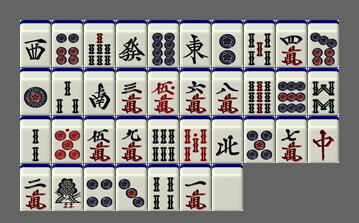0m: (148, 68, 179, 115)
0p: (52, 116, 83, 163)
0s: (180, 116, 211, 163)
1m: (180, 164, 211, 211)
1p: (20, 68, 51, 115)
1s: (52, 164, 83, 211)
1z: (180, 20, 211, 67)
2m: (20, 164, 51, 211)
2p: (212, 20, 243, 67)
2s: (20, 116, 51, 163)
2z: (84, 68, 115, 115)
3m: (116, 68, 147, 115)
3p: (116, 164, 147, 211)
3s: (52, 68, 83, 115)
3z: (20, 20, 51, 67)
4m: (276, 20, 307, 67)
4p: (84, 164, 115, 211)
4s: (148, 164, 179, 211)
4z: (212, 116, 243, 163)
5m: (84, 116, 115, 163)
5p: (244, 116, 275, 163)
5s: (244, 20, 275, 67)
5z: (212, 164, 243, 211)
6m: (180, 68, 211, 115)
6p: (52, 20, 83, 67)
6s: (148, 116, 179, 163)
6z: (116, 20, 147, 67)
7m: (276, 116, 307, 163)
7p: (308, 20, 339, 67)
7s: (84, 20, 115, 67)
7z: (308, 116, 339, 163)
8m: (212, 68, 243, 115)
8p: (148, 20, 179, 67)
8s: (308, 68, 339, 115)
9m: (116, 116, 147, 163)
9p: (276, 68, 307, 115)
9s: (244, 68, 275, 115)
